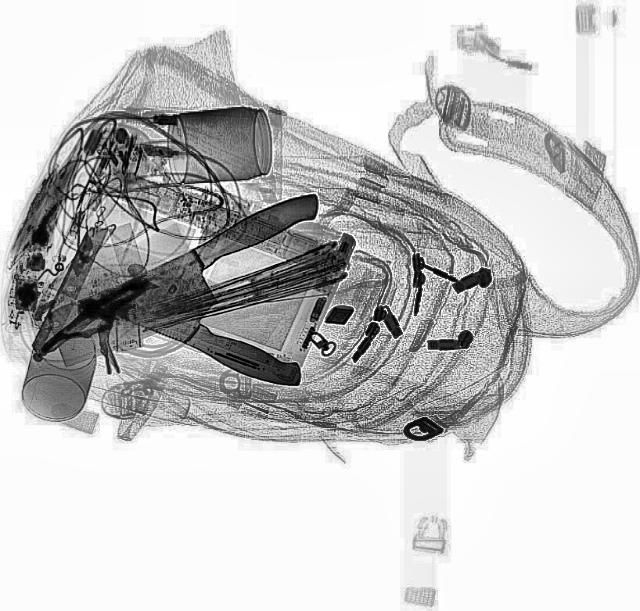Knife: (32, 186, 346, 372), (47, 222, 330, 397)
